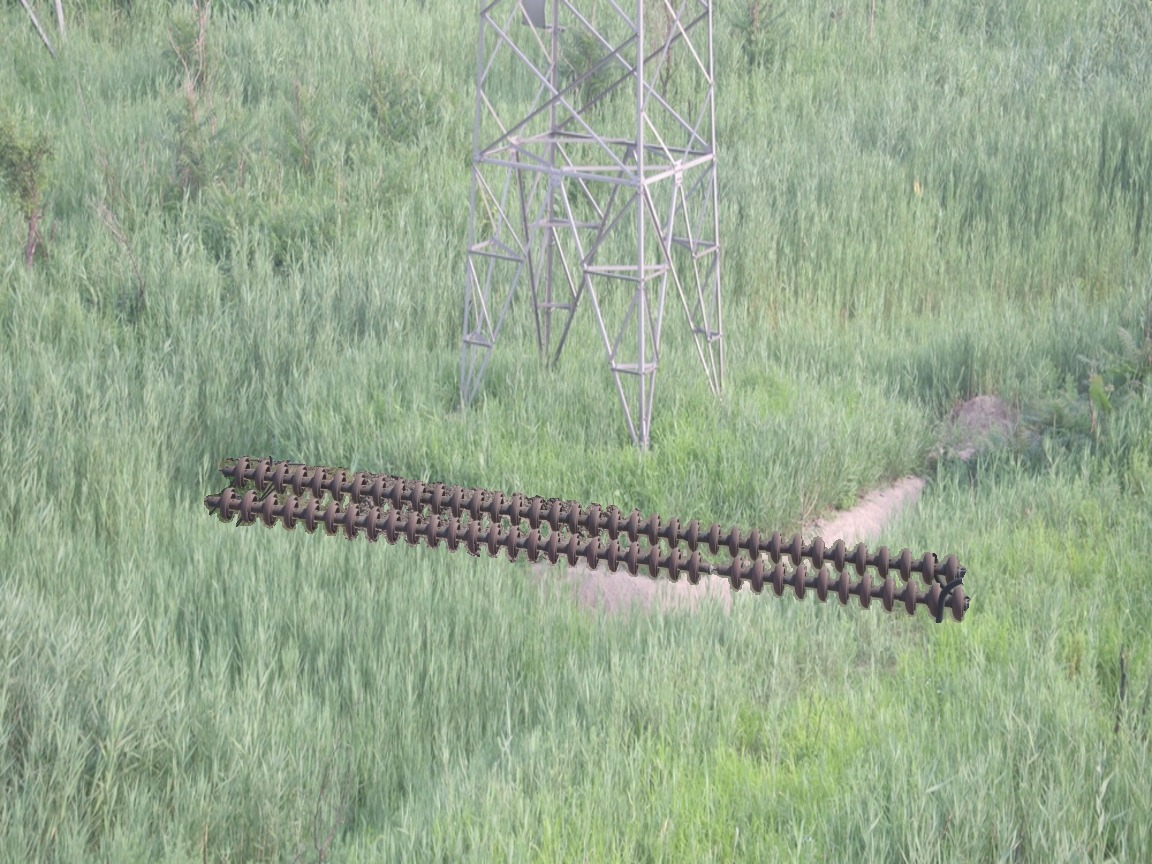defect: (679, 546, 750, 593)
